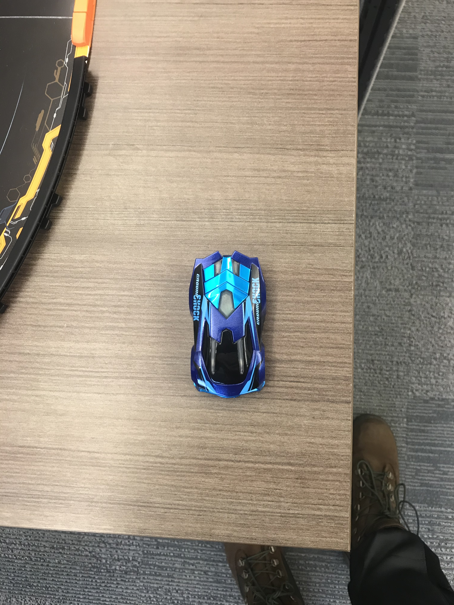Shock: (187, 249, 270, 400)
